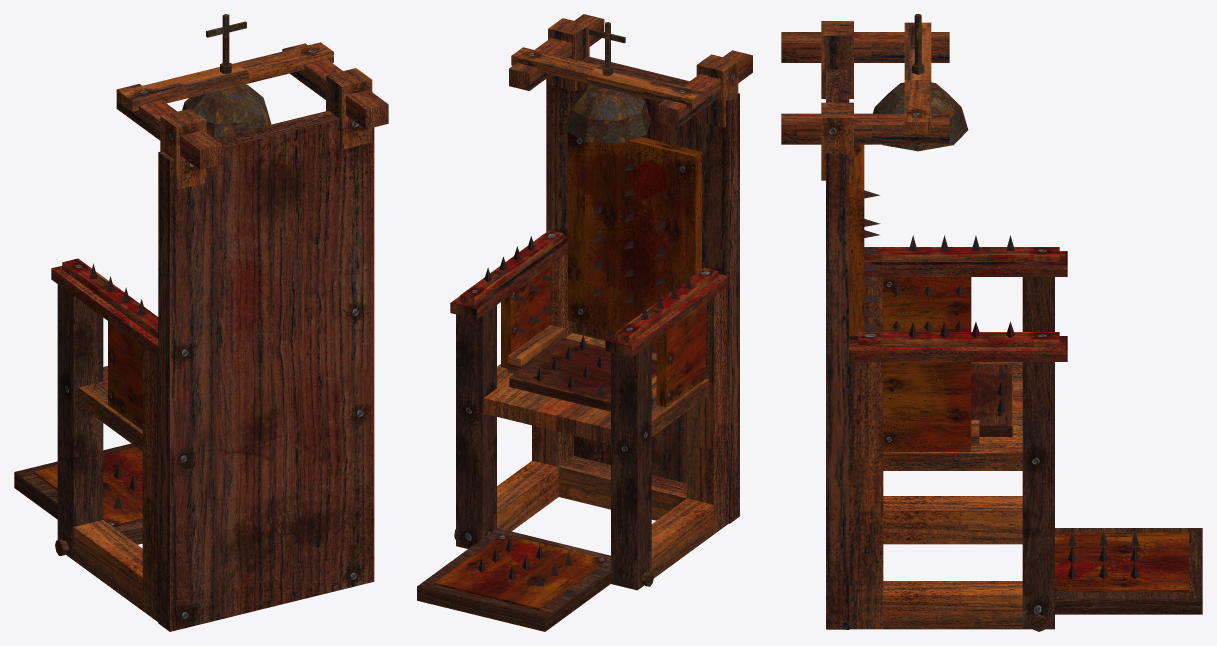
Rendered from ChairOPain.fbx.
3 views of the same model, side by side, from view 1: azimuth 30°, elevation 25°; view 2: azimuth 150°, elevation 25°; view 3: azimuth 270°, elevation 25° (orthographic). The views are drawn at different scales.
Visible parts, largest first — view 1: ChairOPain:Mesh; view 2: ChairOPain:Mesh; view 3: ChairOPain:Mesh.
Boxes of the visible parts, bbox=[...] form: ChairOPain:Mesh: bbox=[14, 14, 388, 631]; ChairOPain:Mesh: bbox=[417, 14, 752, 631]; ChairOPain:Mesh: bbox=[781, 14, 1202, 631].
Size of the model in its own units: 0.9649 by 2.4 by 1.63.
